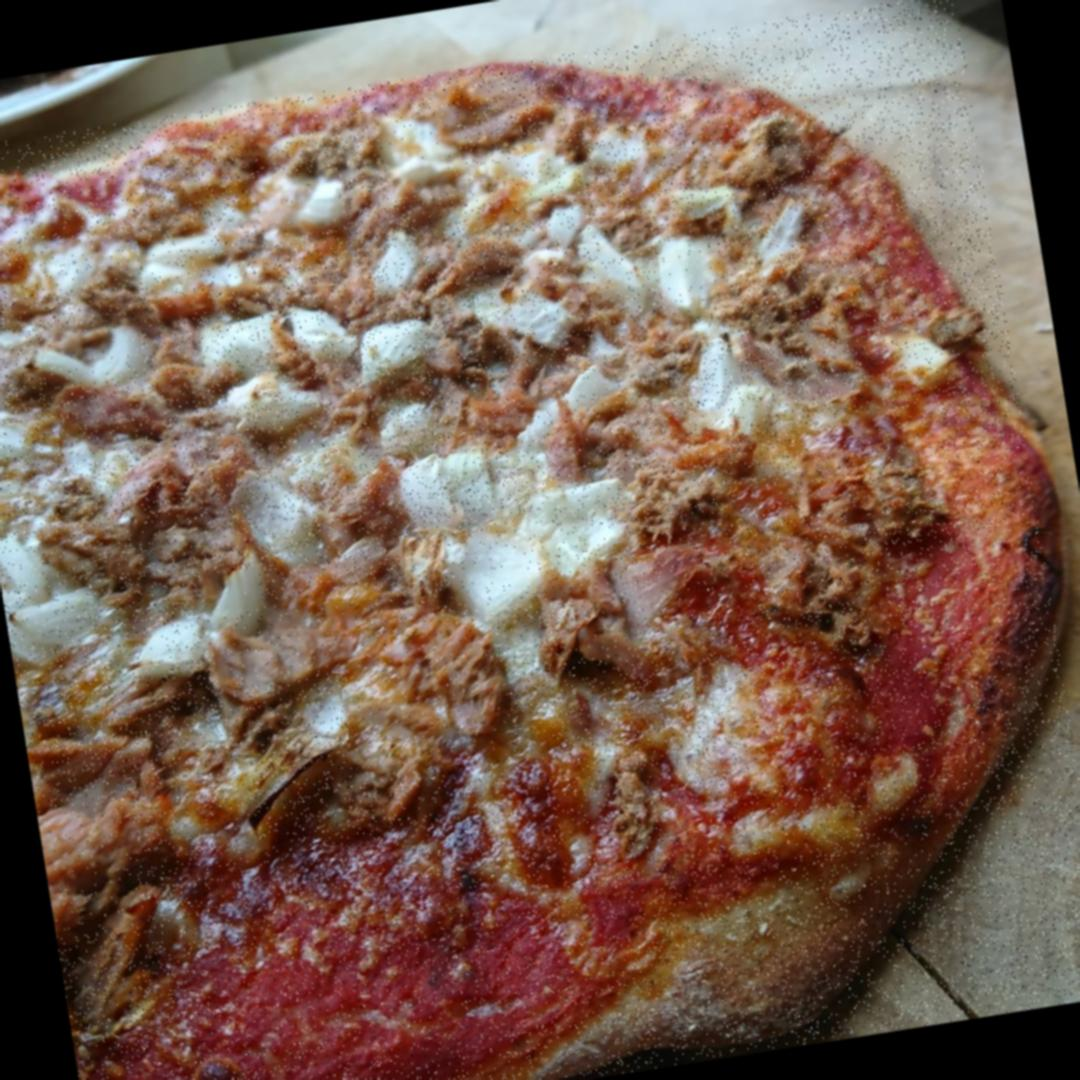Ham: (333, 607, 516, 783), (202, 588, 381, 691), (566, 543, 710, 660), (34, 684, 196, 785), (37, 794, 149, 936), (106, 436, 225, 548), (53, 370, 193, 456), (139, 135, 234, 219)
Onion: (443, 506, 582, 615), (0, 529, 96, 652), (461, 142, 582, 226), (200, 306, 338, 378), (136, 223, 256, 304), (238, 469, 329, 565), (472, 274, 578, 356), (399, 446, 508, 522), (520, 370, 624, 446), (378, 113, 466, 200), (42, 316, 147, 388), (559, 222, 648, 302), (362, 219, 438, 312), (216, 369, 318, 438), (255, 168, 345, 239), (656, 232, 726, 321), (691, 330, 754, 407), (36, 232, 121, 286), (358, 322, 435, 378), (202, 567, 266, 634), (378, 406, 443, 456)
Pizza: (0, 0, 1080, 1080)
